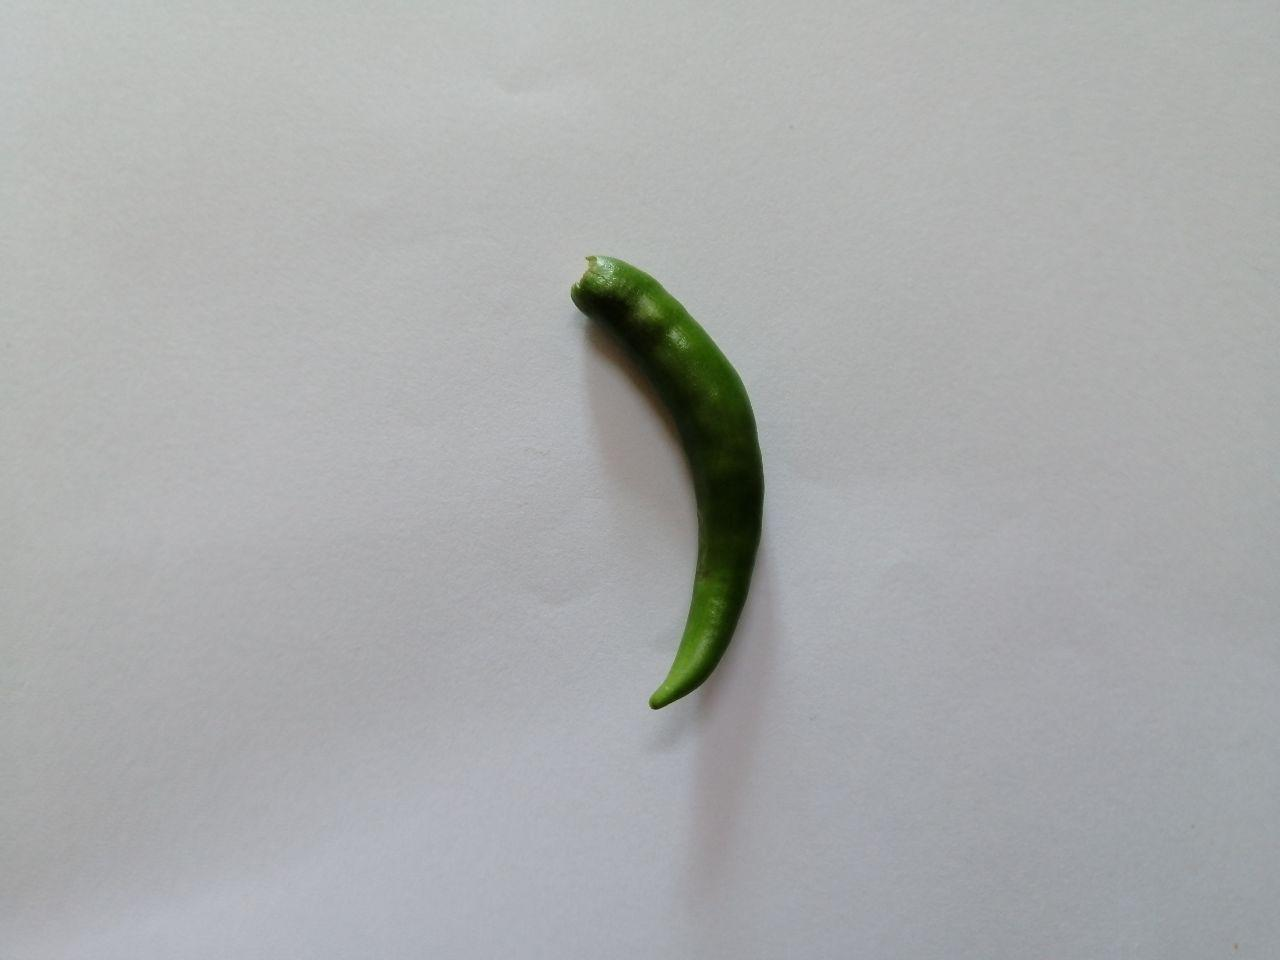lada hijau: (547, 236, 783, 734)
